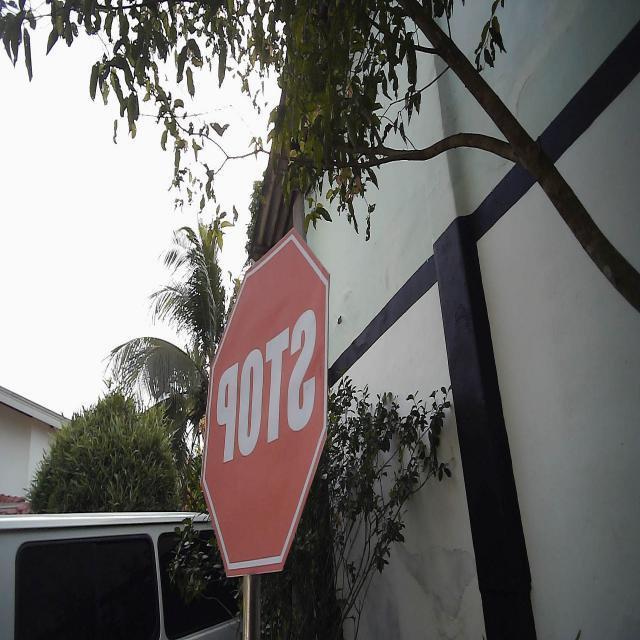stop: (198, 222, 332, 580)
